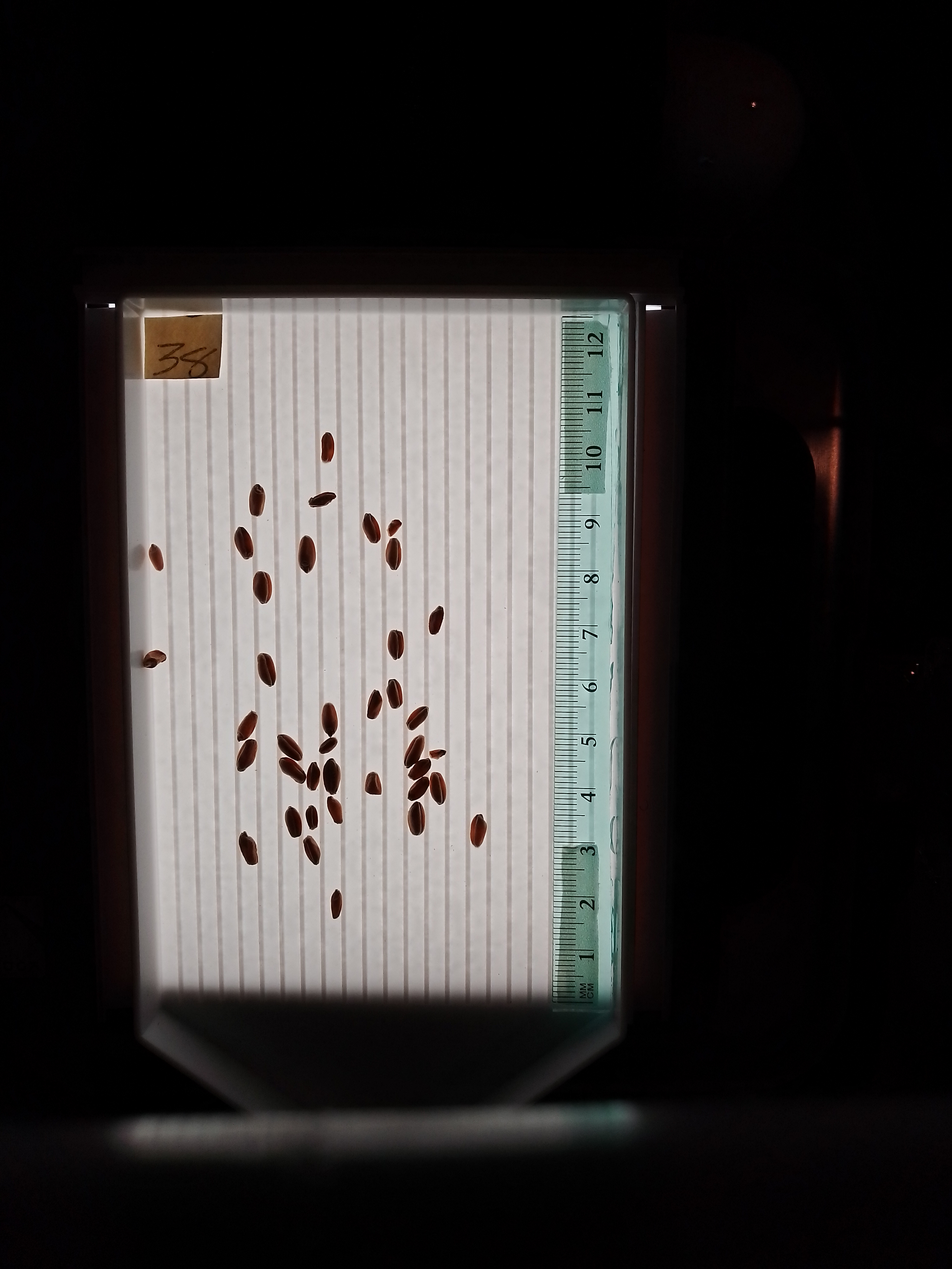seed mask: (280, 757, 305, 784), (236, 740, 257, 772), (298, 536, 316, 573), (277, 734, 302, 760), (323, 759, 341, 794), (239, 833, 258, 865), (253, 572, 272, 604), (235, 527, 253, 559), (405, 736, 424, 766), (238, 713, 257, 742), (470, 815, 487, 847), (258, 654, 275, 686), (249, 484, 266, 516), (363, 514, 381, 544), (408, 804, 425, 835), (321, 704, 338, 735), (430, 773, 446, 804), (407, 706, 428, 729), (285, 807, 301, 837), (386, 538, 401, 569), (304, 837, 320, 865), (367, 691, 383, 719), (388, 631, 404, 659), (387, 679, 402, 708), (429, 606, 444, 634), (309, 492, 335, 508), (143, 650, 166, 668), (321, 433, 335, 462), (328, 797, 343, 824), (411, 759, 431, 779), (409, 778, 428, 799), (306, 763, 320, 791), (149, 545, 163, 570), (330, 891, 342, 918), (306, 806, 319, 829), (321, 737, 336, 753)
